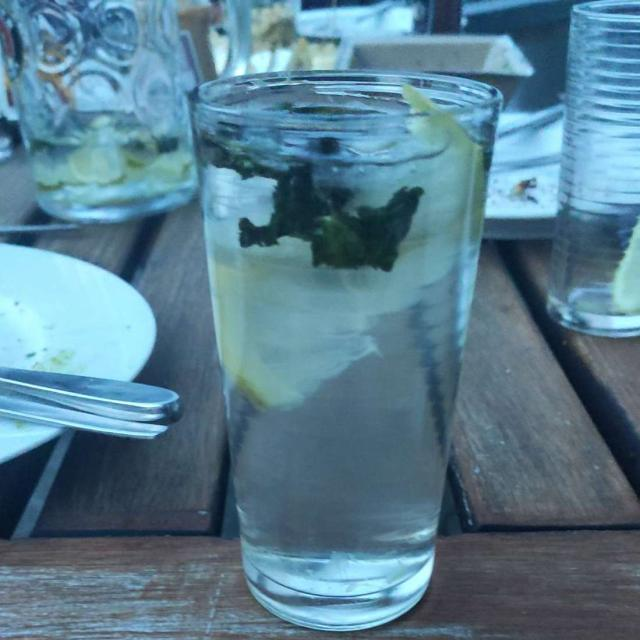water-with-lemon-juice: (198, 123, 491, 592)
